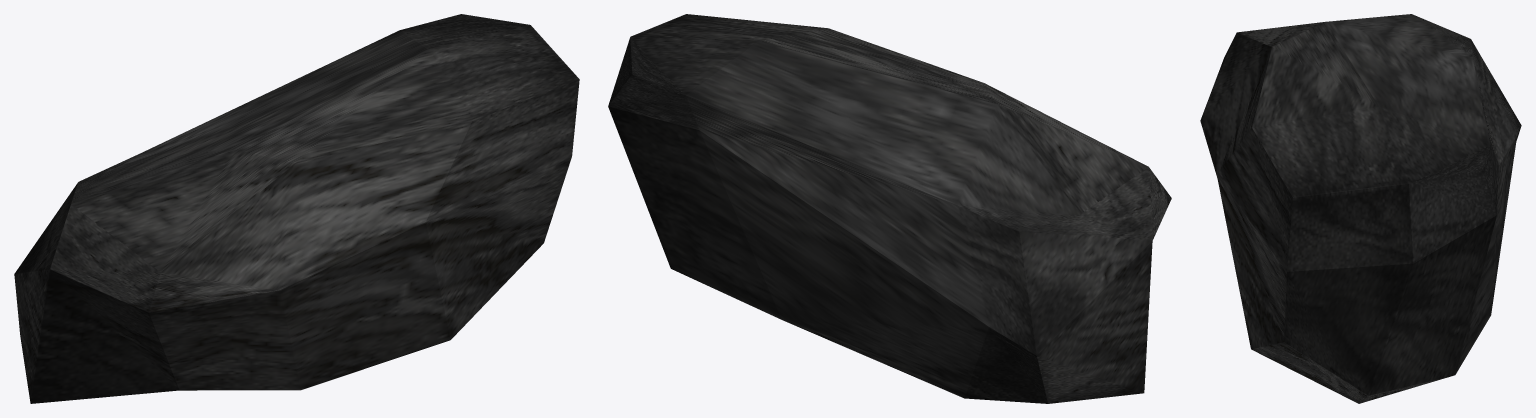
The model's file is snow_rock.glb.
The picture shows the model from 3 angles, left to right: view 1: azimuth 30°, elevation 25°; view 2: azimuth 150°, elevation 25°; view 3: azimuth 270°, elevation 25°; orthographic projection. The views are drawn at different scales.
Visible parts, largest first — view 1: _MeshInstance3D_19; view 2: _MeshInstance3D_19; view 3: _MeshInstance3D_19.
Boxes of the visible parts, bbox=[...] form: _MeshInstance3D_19: bbox=[14, 14, 579, 403]; _MeshInstance3D_19: bbox=[608, 14, 1171, 403]; _MeshInstance3D_19: bbox=[1200, 14, 1521, 403].
Bounding box in the file's own units: 2.03 × 0.989 × 0.9936.
1 material, 1 textured.
